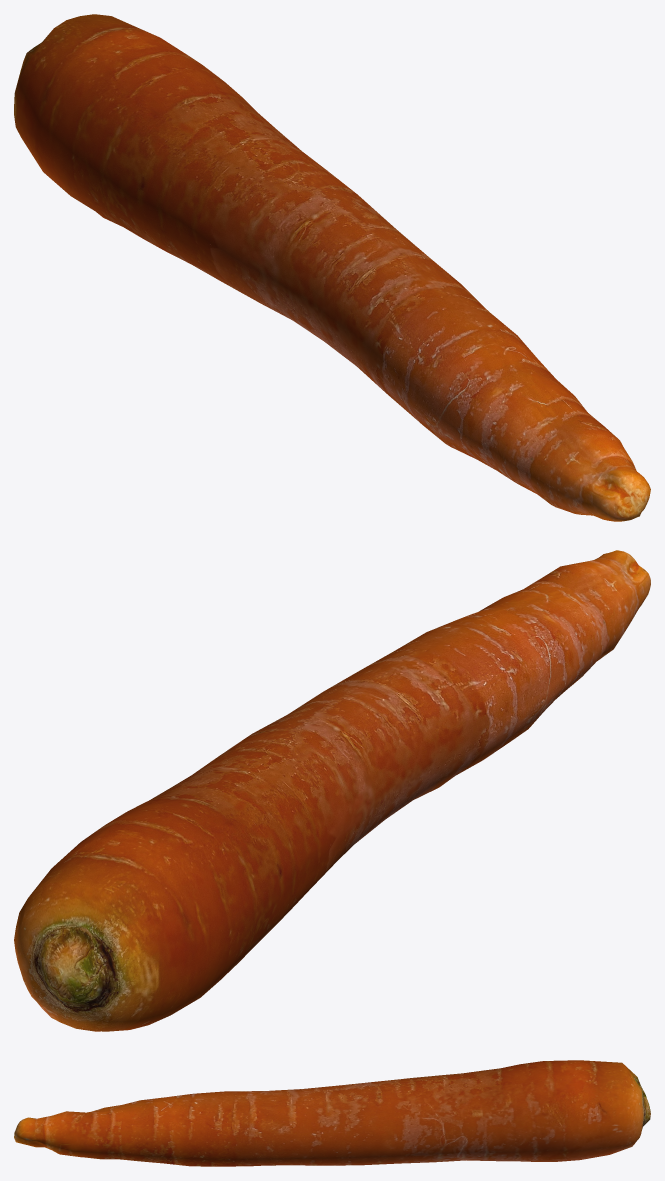
The model's file is carrot.glb.glb.
3 views of the same model, one above another, from view 1: azimuth 30°, elevation 25°; view 2: azimuth 150°, elevation 25°; view 3: azimuth 270°, elevation 25° (orthographic). The views are drawn at different scales.
Parts seen in each view (by area): view 1: Carrot LP; view 2: Carrot LP; view 3: Carrot LP.
Part boxes in pixels (left/top/right/bottom): Carrot LP: left=14, top=14, right=650, bottom=521; Carrot LP: left=14, top=550, right=650, bottom=1031; Carrot LP: left=14, top=1060, right=650, bottom=1166.
Bounding box in the file's own units: 3 × 2.89 × 17.98.
1 material, 1 textured.
